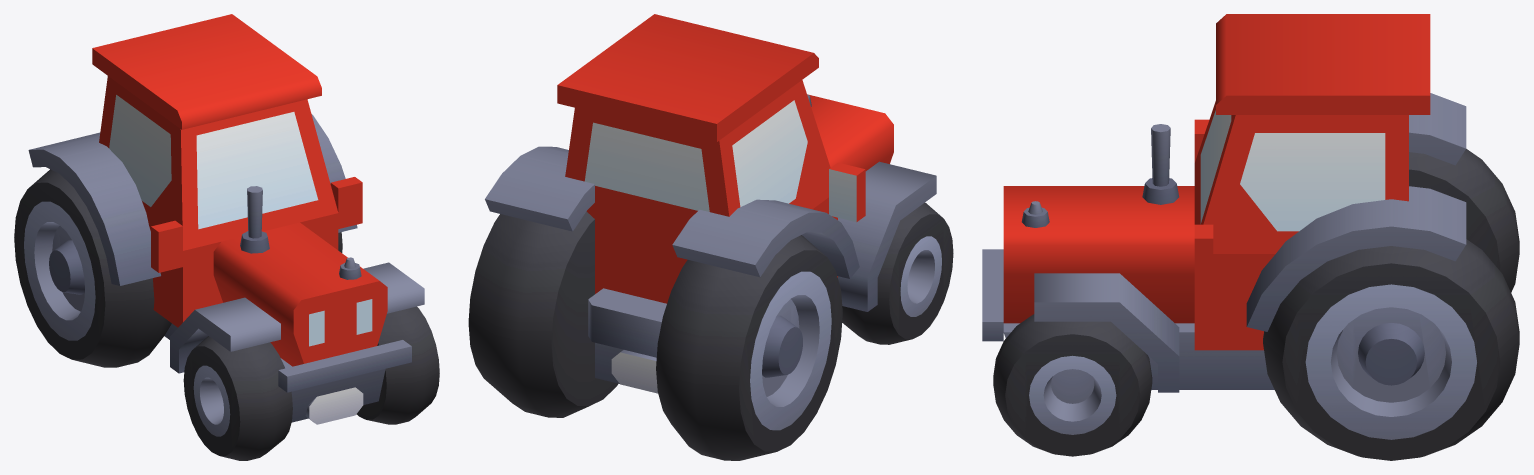
Rendered from tractor2.glb.
3 views of the same model, side by side, from view 1: azimuth 30°, elevation 25°; view 2: azimuth 150°, elevation 25°; view 3: azimuth 270°, elevation 25° (orthographic). The views are drawn at different scales.
Parts seen in each view (by area): view 1: body.001, body, wheel-back-right, wheel-front-right, wheel-front-left; view 2: body.001, body, wheel-back-right, wheel-back-left, wheel-front-right; view 3: body.001, body, wheel-back-left, wheel-front-left, wheel-back-right.
Part boxes in pixels (box(x1,y1,x2,y2)): body.001: box(92, 14, 387, 366); body: box(28, 95, 424, 424); wheel-back-right: box(14, 169, 171, 367); wheel-front-right: box(183, 336, 292, 460); wheel-front-left: box(356, 306, 439, 424); body.001: box(557, 14, 893, 303); body: box(485, 94, 936, 393); wheel-back-right: box(656, 235, 842, 460); wheel-back-left: box(468, 211, 618, 417); wheel-front-right: box(842, 202, 953, 344); body.001: box(1003, 14, 1430, 350); body: box(982, 93, 1466, 392); wheel-back-left: box(1263, 239, 1519, 460); wheel-front-left: box(993, 314, 1152, 456); wheel-back-right: box(1409, 149, 1519, 292).
Bounding box in the file's own units: 1.34 × 1.6 × 2.2.
Materials: 2 (1 with a texture image).
